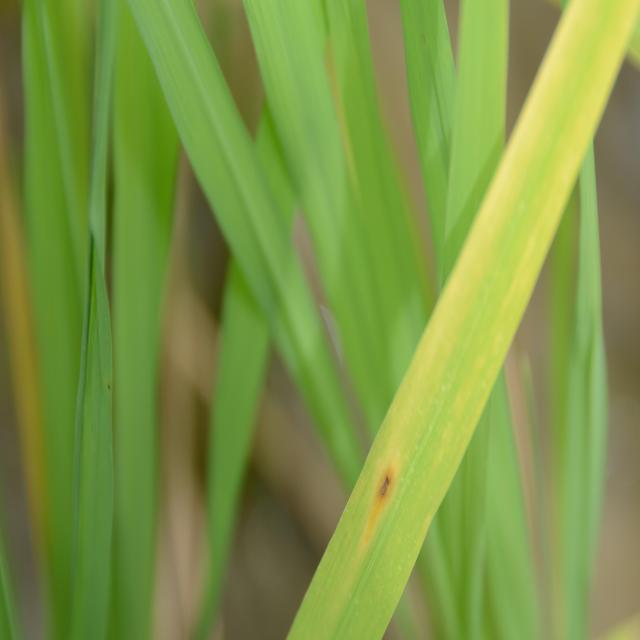Rice Tungro: (448, 9, 616, 346), (309, 307, 478, 632)
